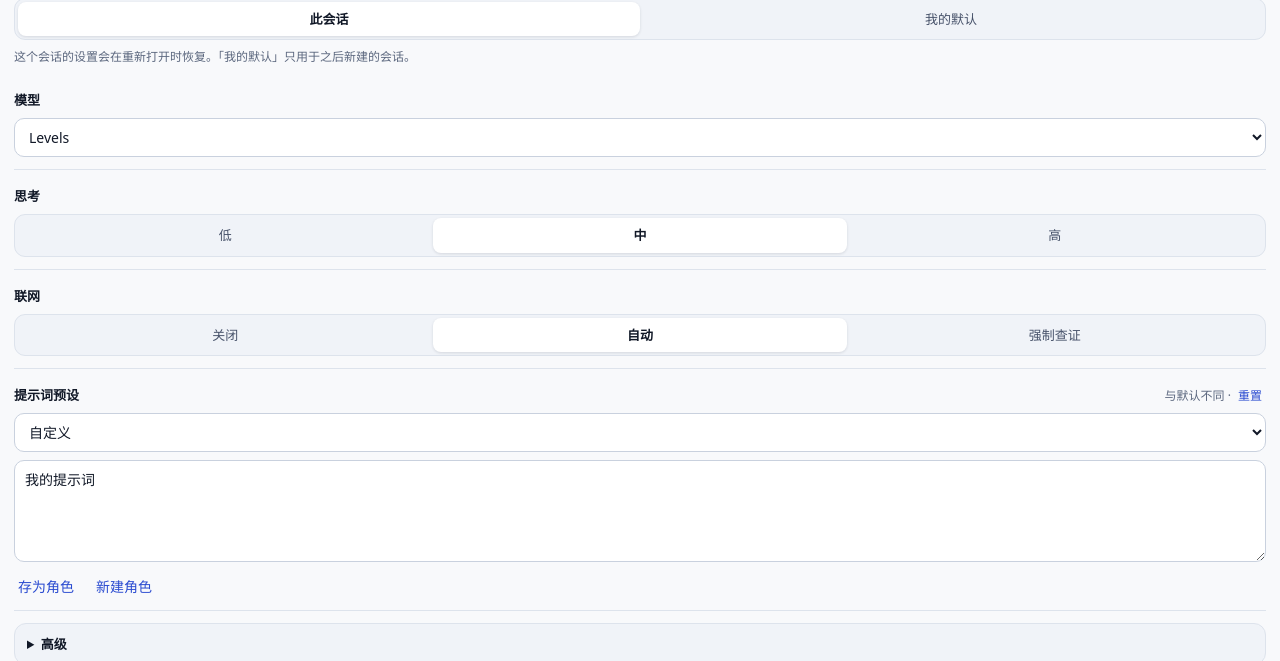
Test: SettingsPanel › saves the custom prompt as a role and selects it
Click the button "存为角色": (46, 587) [14,576,78,598]
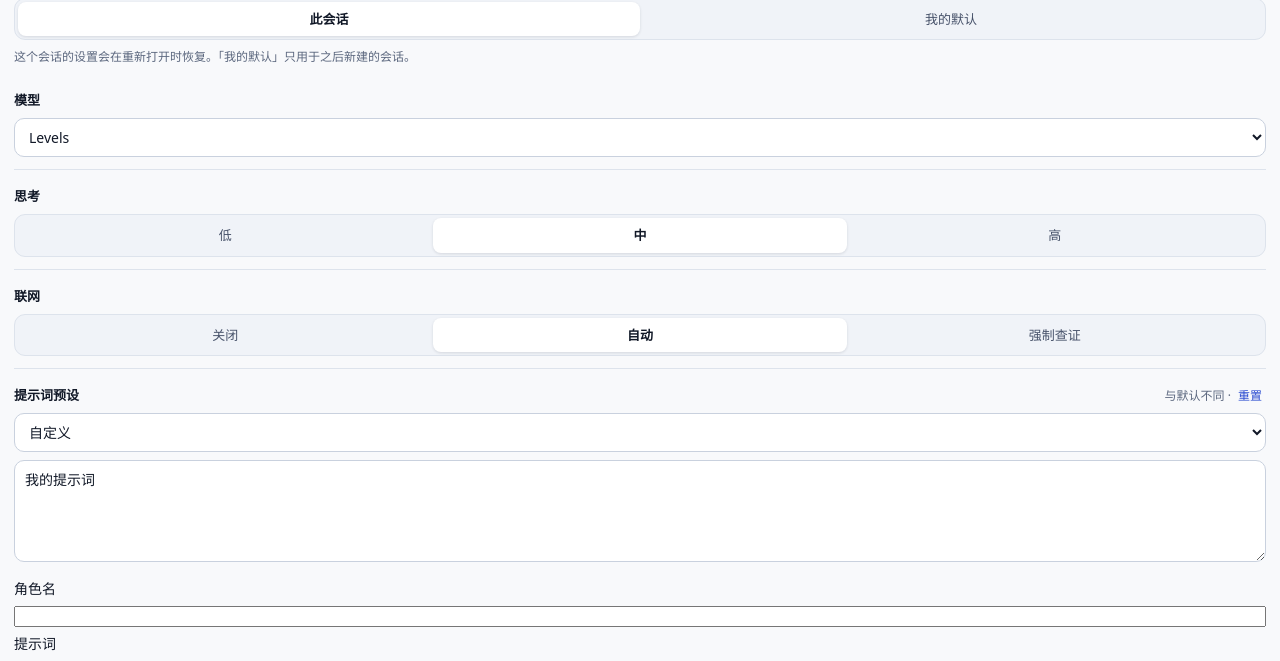
In the field labelled "角色名": (640, 617) [14,606,1266,627], type "神秘"
(page scrolled)
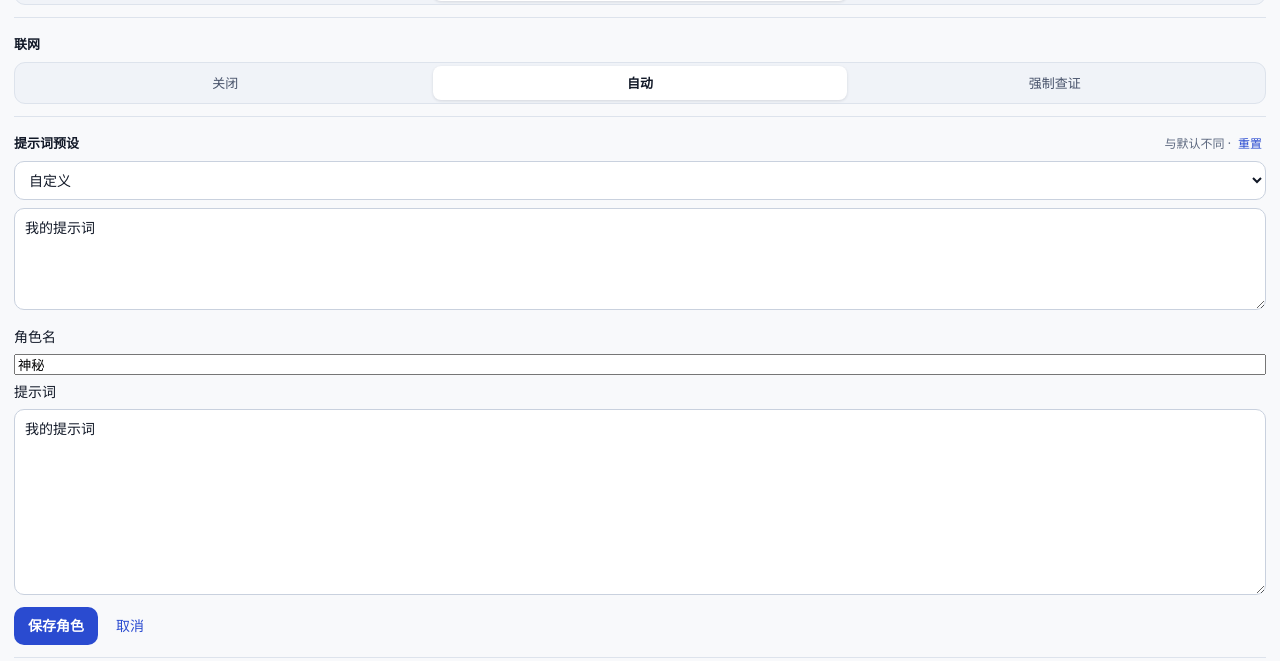
Click the button "保存角色": (56, 626) [14,607,98,644]
(page scrolled)
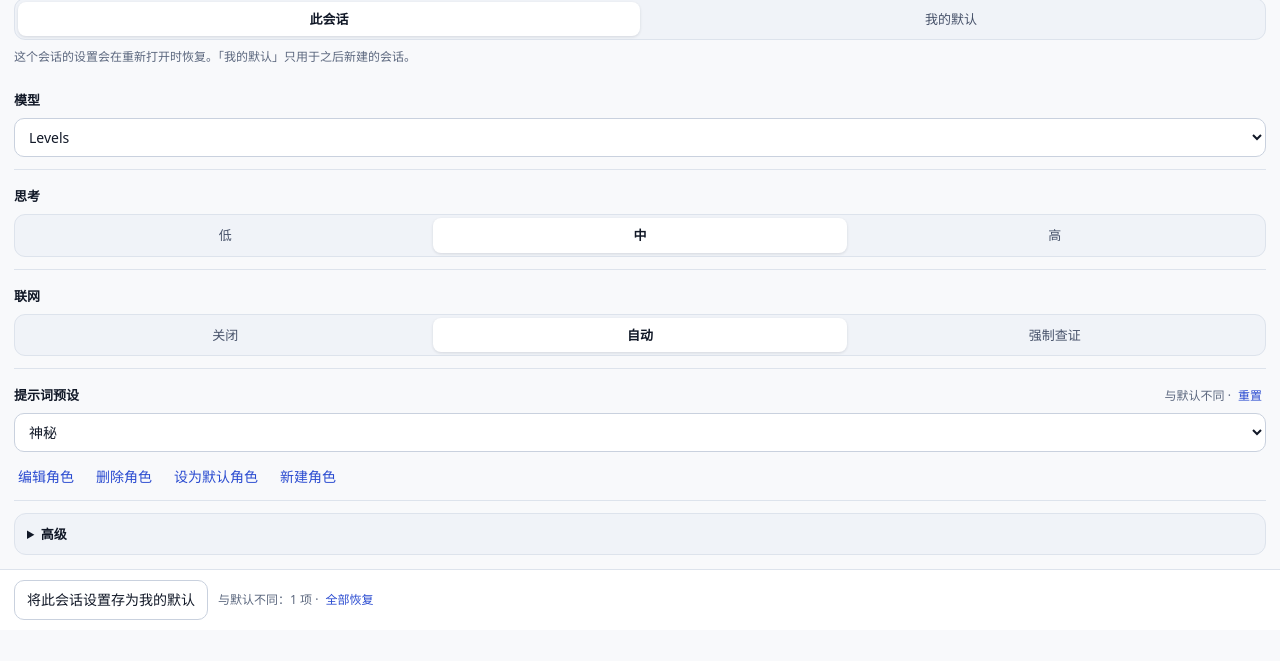
Expected: the dropdown named "提示词预设" shows "神秘", [14,413,1266,452]
